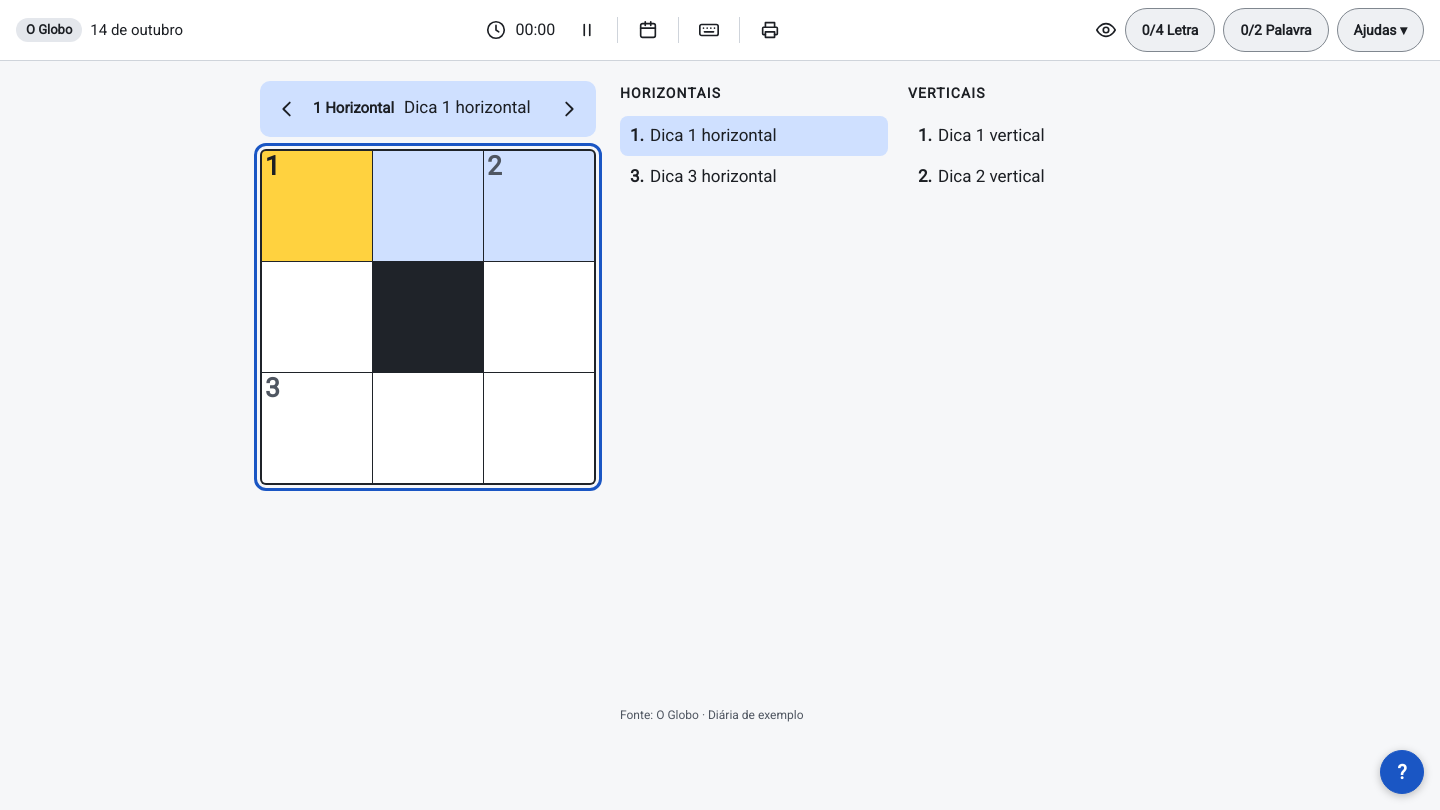
Test: GamePage › "Pausar" cobre o tabuleiro e o torna inerte; "Continuar" devolve o jogo
The image size is (1440, 810).
Check: the table is shown, box 260,149 -> 596,485
Click the button named "Pausar". click: {"x": 587, "y": 30}
box: 565,8 -> 609,52
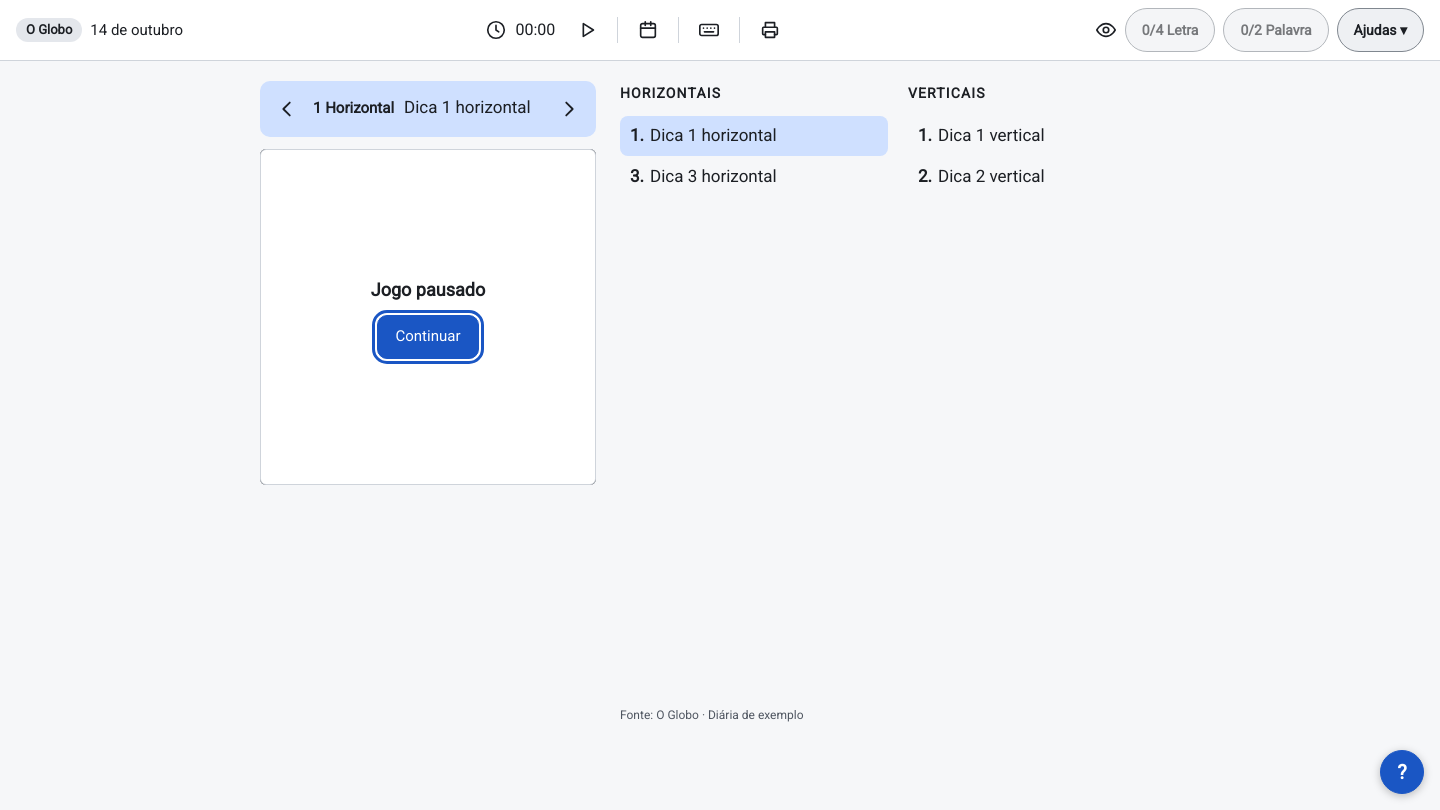
Check: the element showing "1 2 3" is shown, box 260,149 -> 596,485
Check: the text "Jogo pausado" is shown, box 371,276 -> 485,302
Click the button "Continuar". click: {"x": 428, "y": 336}
box: 376,314 -> 480,358
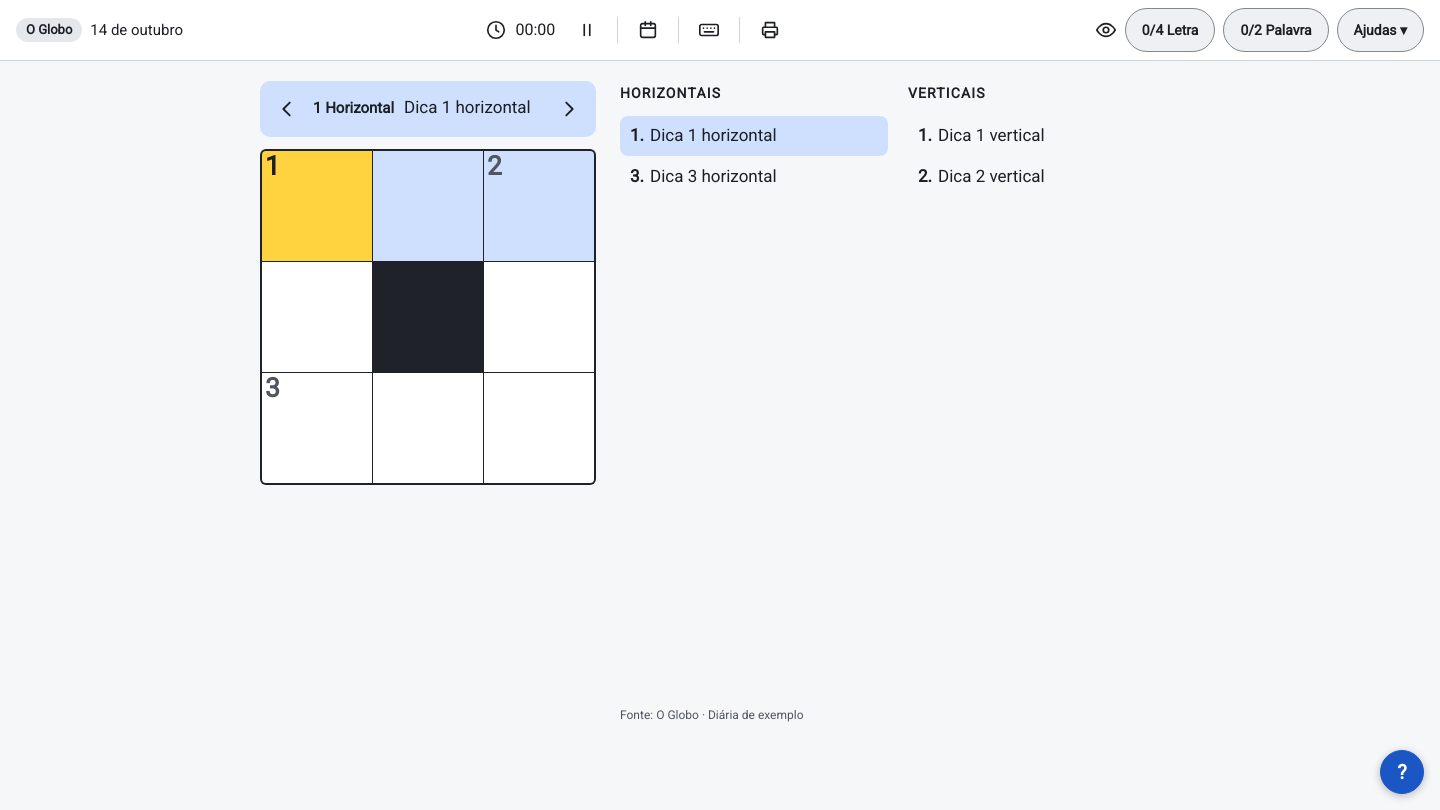
Check: the text "Jogo pausado" is gone
